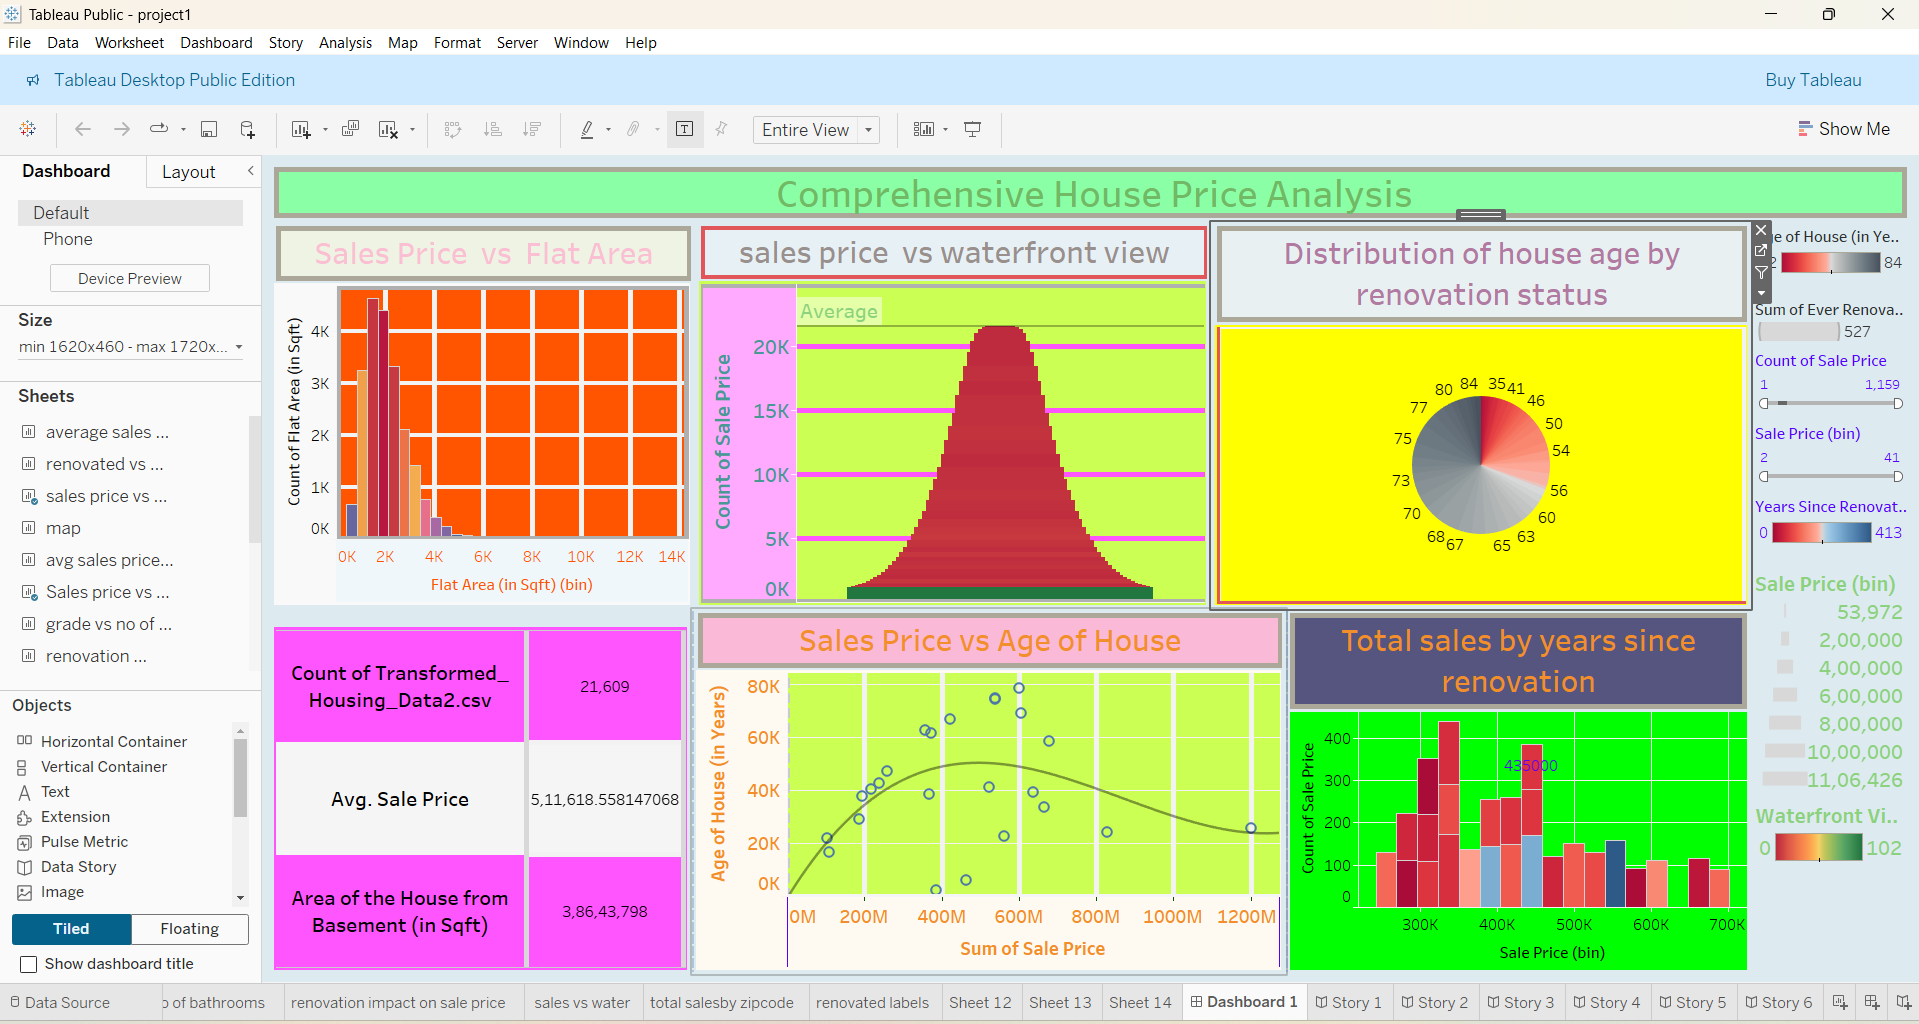

Layout of this report page (visuals, bound fields, positions):
{"tool":"tableau","page":{"name":"Dashboard 1","canvas":[1000,1000],"units":"permille","ordinal":0},"visuals":[{"type":"title","box":[4.9,9.9,990.2,73.1]},{"type":"worksheet","title":"sheet1","mark":"Automatic","rows":["Total"],"cols":["Branch","Product line"],"box":[4.9,83,405.6,453.5]},{"type":"worksheet","title":"Sheet 4","mark":"Automatic","rows":["Total"],"cols":["Date"],"box":[410.5,83,584.6,453.5]},{"type":"worksheet","title":"Sheet 3","mark":"Pie","cols":["Calculation_459648658131611651","Calculation_459648658131611651"],"box":[4.9,536.5,405.6,453.5]},{"type":"worksheet","title":"Sheet 2","mark":"Automatic","rows":["Customer type"],"box":[410.5,536.5,292.3,453.5]},{"type":"worksheet","title":"Sheet 5","mark":"Circle","rows":["Total"],"box":[702.8,536.5,292.3,453.5]}]}

Visuals, with their boxes on the dashboard's canvas, which has no fixed pixel size, in thousandths of its width and height (x1, y1, x2, y2). These are canvas units, not pixel positions in the 1919x1024 screenshot, which may show the page scaled, cropped or inside an application window:
title: [5, 10, 995, 83]
"sheet1" worksheet: [5, 83, 410, 536]
"Sheet 4" worksheet: [410, 83, 995, 536]
"Sheet 3" worksheet (Pie marks): [5, 536, 410, 990]
"Sheet 2" worksheet: [410, 536, 703, 990]
"Sheet 5" worksheet (Circle marks): [703, 536, 995, 990]
